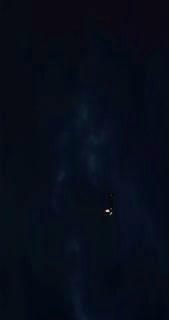Plane: (99, 201, 118, 222)
